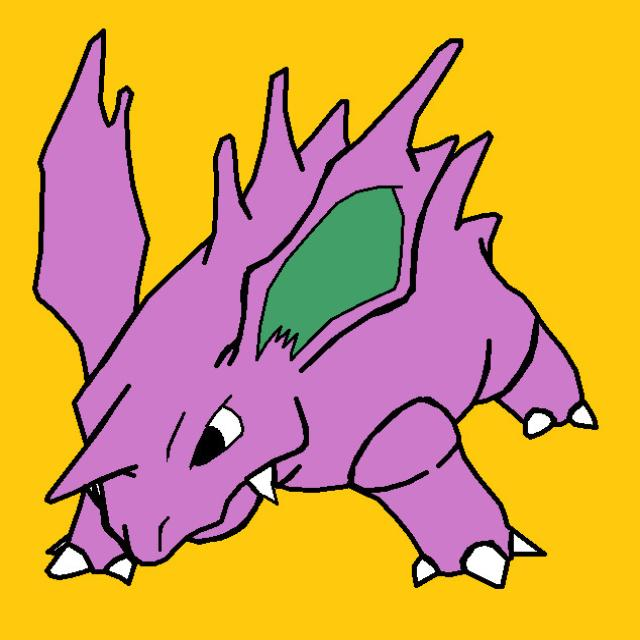Nidorino: (21, 32, 548, 587)
